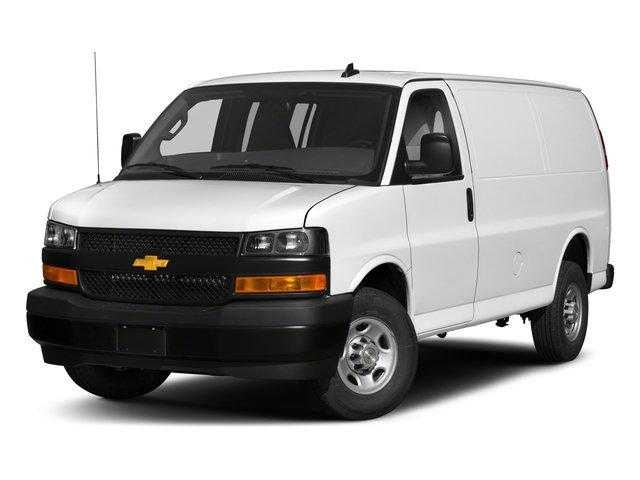van: (26, 67, 614, 422)
